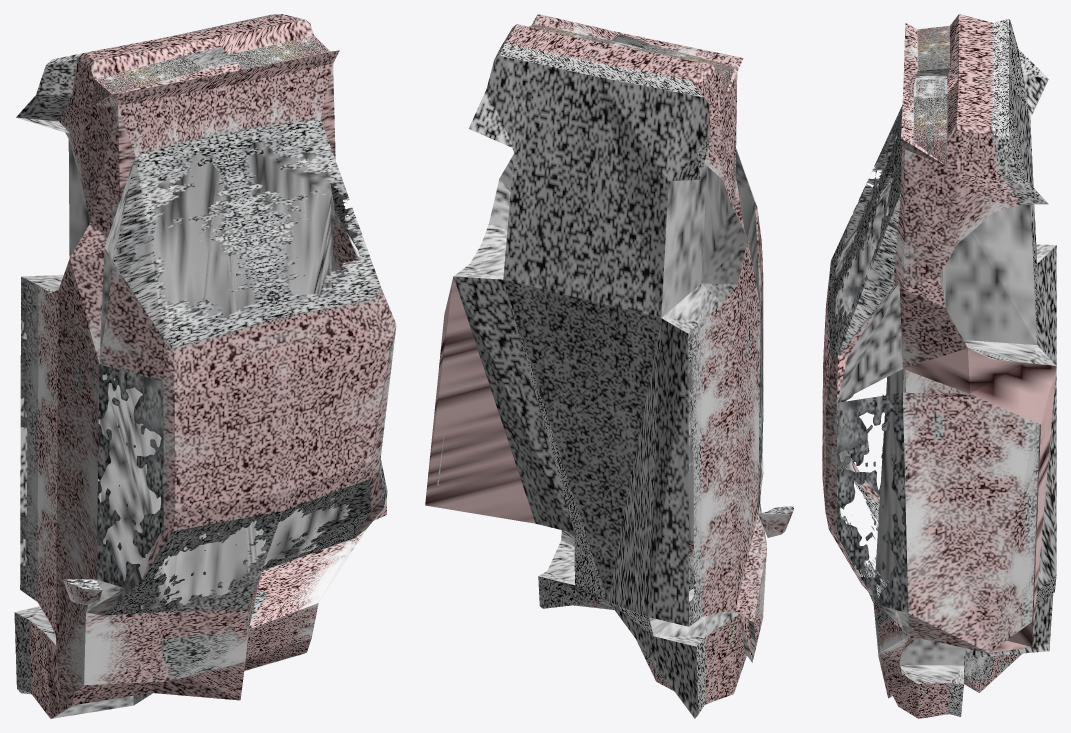
Rendered from vehiclesmashed_wtf.obj.
The picture shows the model from 3 angles, left to right: view 1: azimuth 30°, elevation 25°; view 2: azimuth 150°, elevation 25°; view 3: azimuth 270°, elevation 25°; orthographic projection. The views are drawn at different scales.
Parts seen in each view (by area): view 1: group1, group2; view 2: group1, group2; view 3: group1, group2.
Part boxes in pixels (<box>): group1: <box>14,14,396,718</box>; group2: <box>95,35,330,94</box>; group1: <box>425,14,793,718</box>; group2: <box>529,24,734,74</box>; group1: <box>822,14,1056,718</box>; group2: <box>913,25,949,141</box>.
Size of the model in its own units: 340 by 660 by 214.
